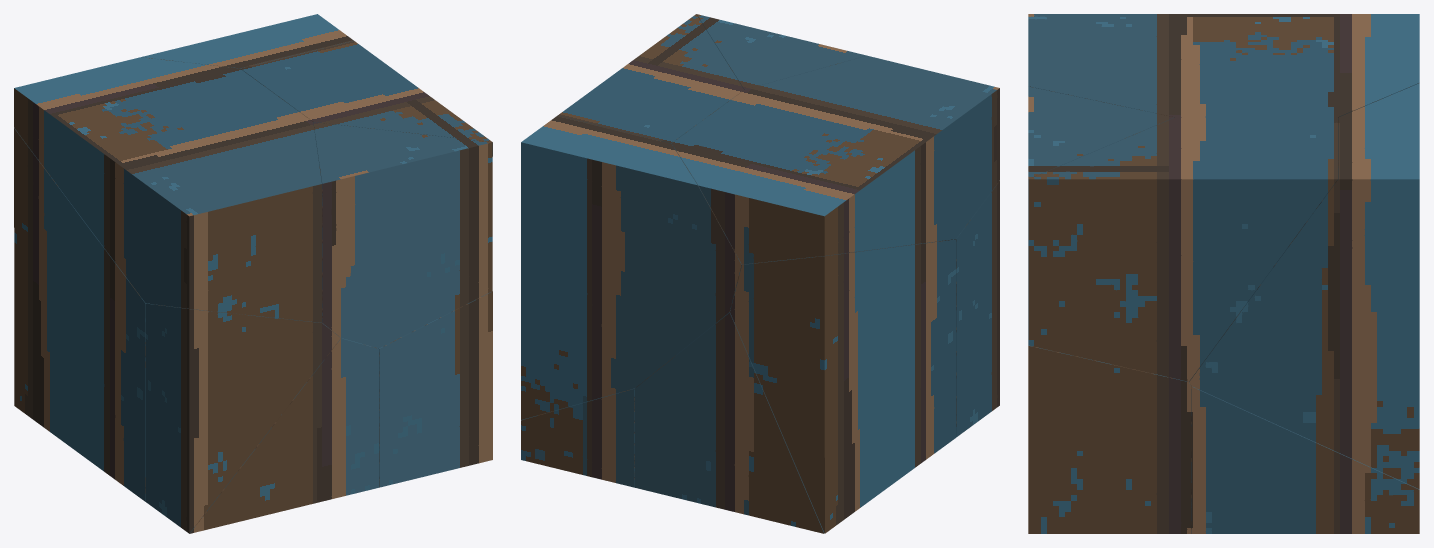
File: crate_dest_1.glb
3 renders of one model, left to right at view 1: azimuth 30°, elevation 25°; view 2: azimuth 150°, elevation 25°; view 3: azimuth 270°, elevation 25°, orthographic. The views are drawn at different scales.
Parts seen in each view (by area): view 1: Cube_cell.002, Cube_cell.001, Cube_cell.005, Cube_cell.006, Cube_cell, Cube_cell.008, Cube_cell.003, Cube_cell.009; view 2: Cube_cell.002, Cube_cell.009, Cube_cell.005, Cube_cell.004, Cube_cell.003, Cube_cell.006, Cube_cell.007, Cube_cell.001; view 3: Cube_cell.003, Cube_cell.009, Cube_cell.002, Cube_cell.008, Cube_cell.007, Cube_cell.001.
Part boxes in pixels (x1,y1,x2,y2): Cube_cell.002: [14, 57, 321, 322]; Cube_cell.001: [313, 122, 492, 348]; Cube_cell.005: [14, 128, 154, 501]; Cube_cell.006: [145, 303, 340, 533]; Cube_cell: [189, 337, 378, 533]; Cube_cell.008: [378, 291, 492, 487]; Cube_cell.003: [240, 41, 492, 156]; Cube_cell.009: [141, 14, 353, 68]; Cube_cell.002: [672, 55, 999, 264]; Cube_cell.009: [521, 115, 741, 419]; Cube_cell.005: [730, 239, 955, 533]; Cube_cell.004: [635, 310, 824, 533]; Cube_cell.003: [558, 14, 743, 145]; Cube_cell.006: [942, 181, 999, 437]; Cube_cell.007: [521, 388, 634, 487]; Cube_cell.001: [696, 14, 866, 89]; Cube_cell.003: [1028, 117, 1337, 381]; Cube_cell.009: [1189, 83, 1419, 489]; Cube_cell.002: [1028, 14, 1419, 117]; Cube_cell.008: [1028, 345, 1191, 533]; Cube_cell.007: [1191, 385, 1419, 533]; Cube_cell.001: [1028, 86, 1174, 344].
Bounding box in the file's own units: 2 × 2 × 2.
1 material, 1 textured.
